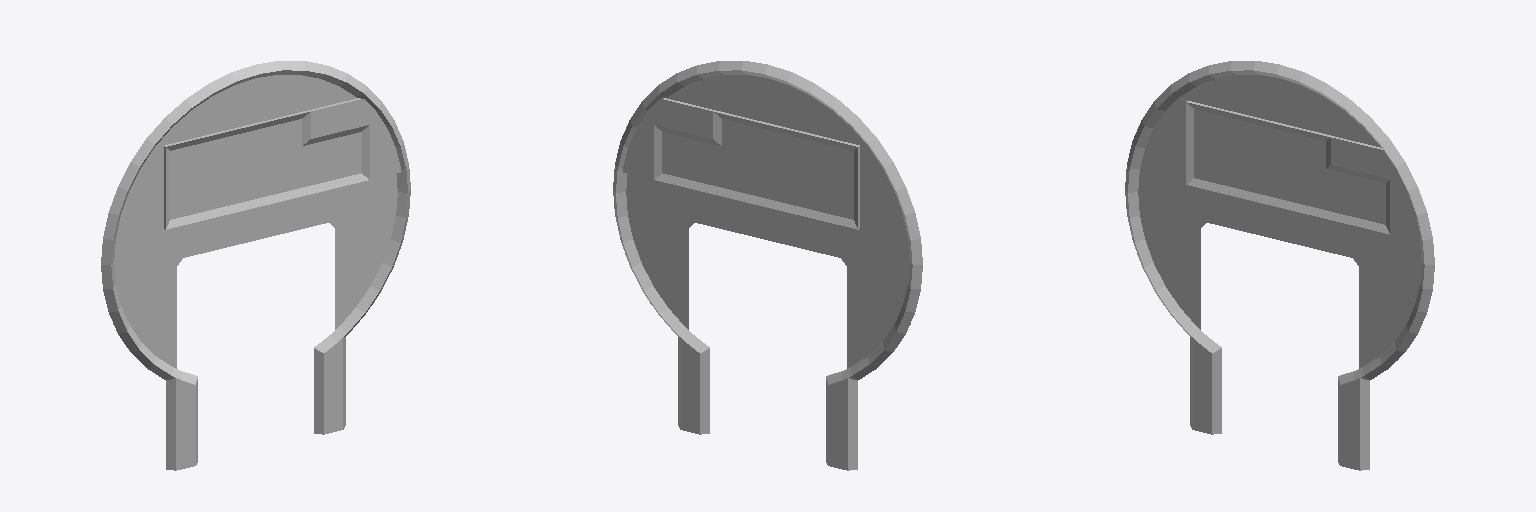
Rendered from GOAL.obj.
3 views of the same model, side by side, from view 1: azimuth 30°, elevation 25°; view 2: azimuth 150°, elevation 25°; view 3: azimuth 330°, elevation 25° (orthographic).
Parts seen in each view (by area): view 1: GOAL; view 2: GOAL; view 3: GOAL.
Part boxes in pixels (left/top/right/bottom): GOAL: left=101, top=61, right=410, bottom=470; GOAL: left=613, top=61, right=922, bottom=470; GOAL: left=1125, top=61, right=1434, bottom=470.
Bounding box in the file's own units: 4.7 × 5.55 × 0.2.